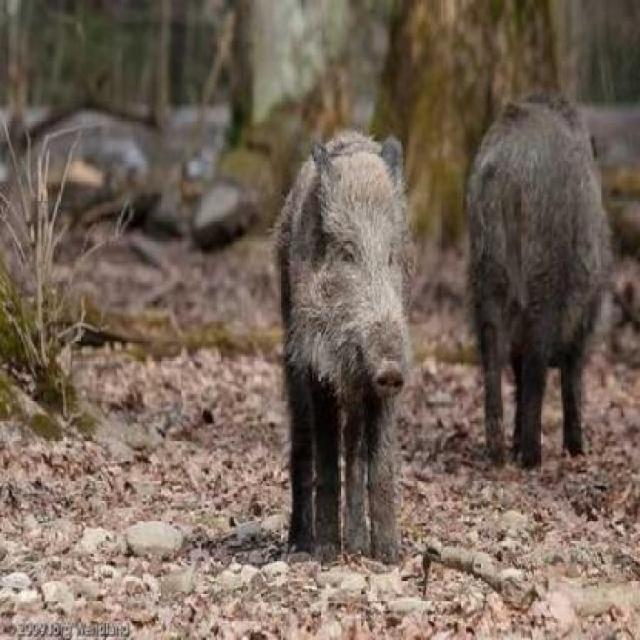Boar: (232, 124, 478, 576)
